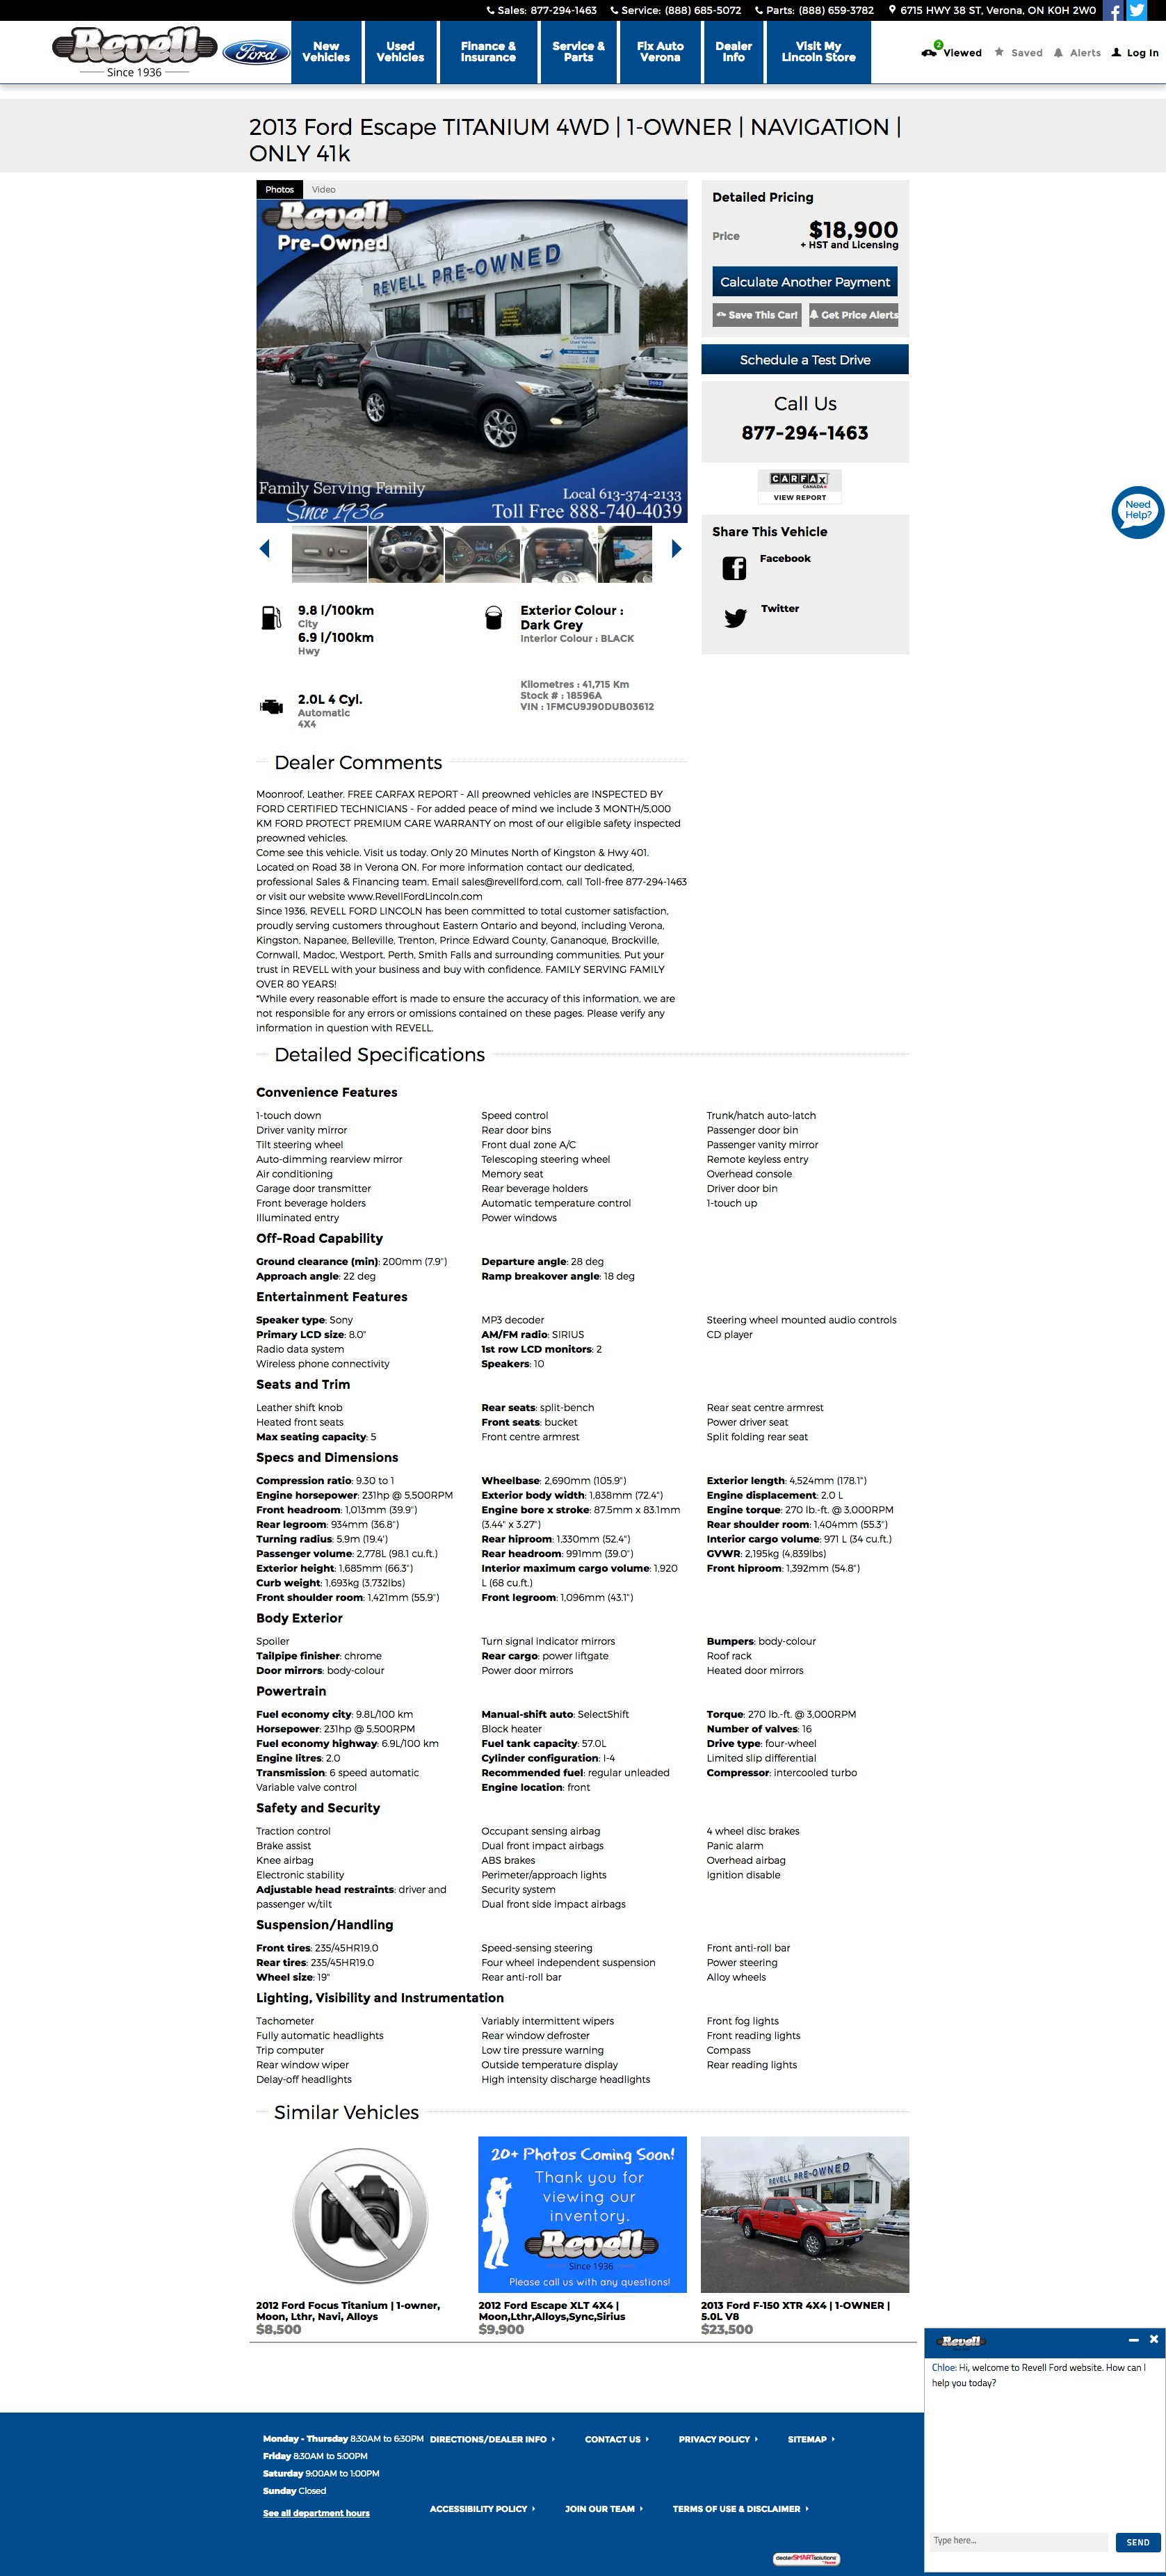car: (672, 539, 683, 559)
